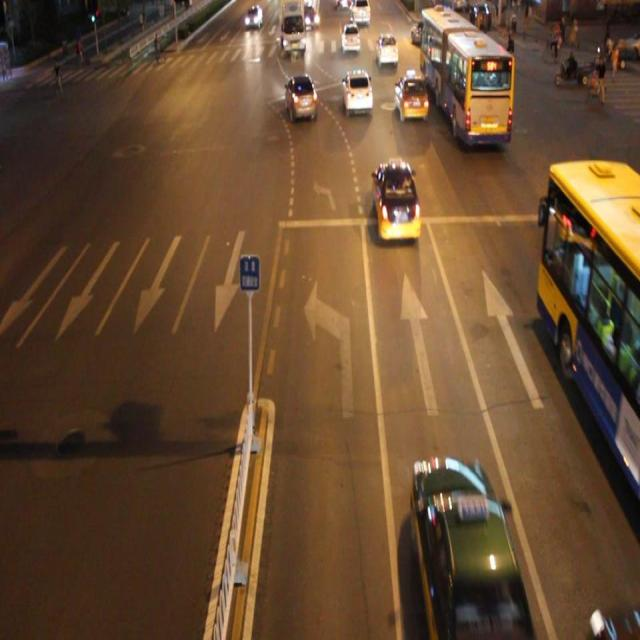car: (412, 454, 532, 640), (373, 157, 421, 241), (394, 72, 428, 124), (285, 73, 318, 121), (342, 67, 374, 113)
van: (535, 163, 640, 511), (418, 1, 513, 145)
